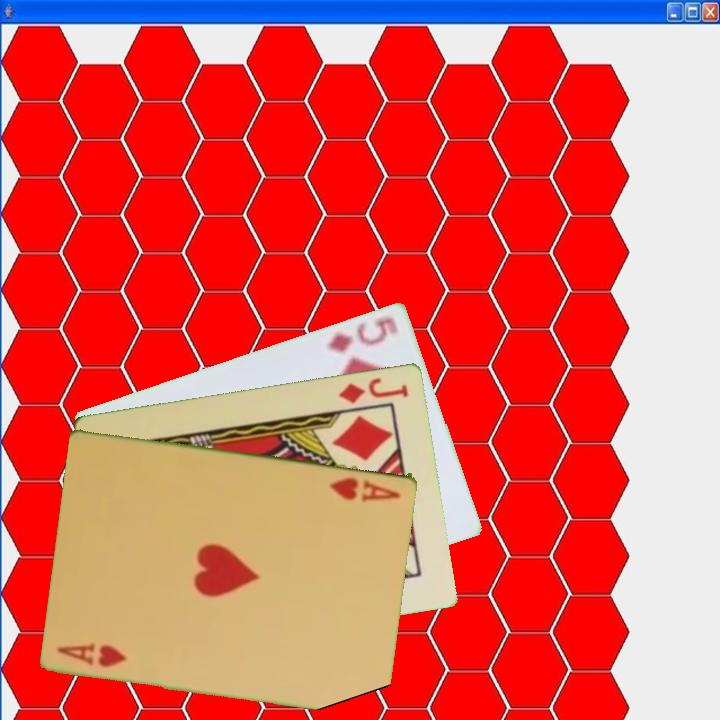5d: (324, 313, 401, 355)
Ah: (326, 473, 404, 504), (54, 640, 131, 670)
Jd: (336, 373, 412, 406)
